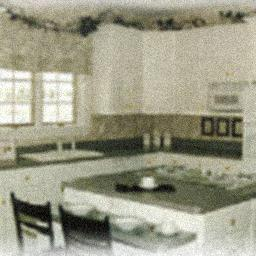Lavaplatos: (29, 137, 105, 167)
